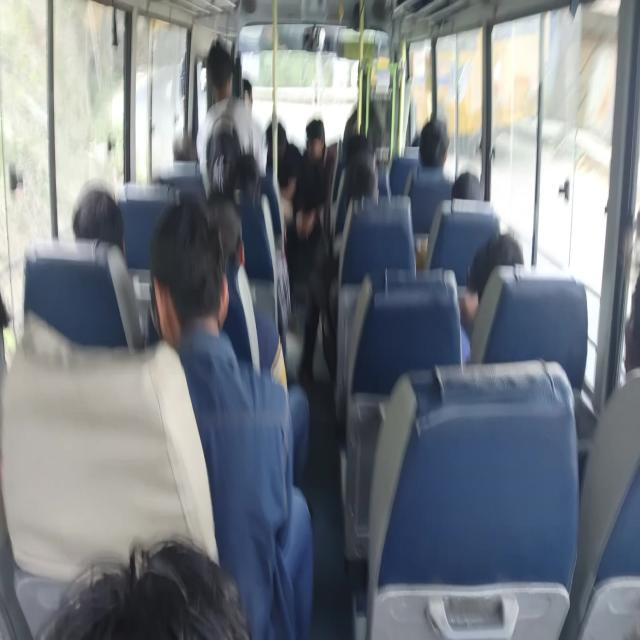person: (148, 195, 314, 638), (38, 535, 251, 639), (71, 178, 143, 346), (293, 117, 337, 387), (195, 41, 266, 198), (458, 231, 524, 363), (332, 148, 379, 250), (71, 177, 125, 257), (342, 66, 382, 160), (264, 120, 302, 215), (416, 117, 451, 181), (451, 171, 481, 200)
